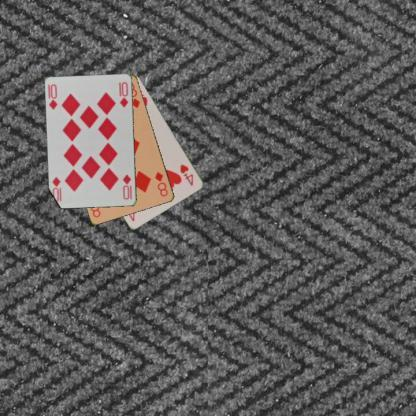10d: (120, 172, 132, 201), (47, 82, 59, 111)
4h: (177, 162, 195, 188)
8d: (152, 169, 170, 198)
